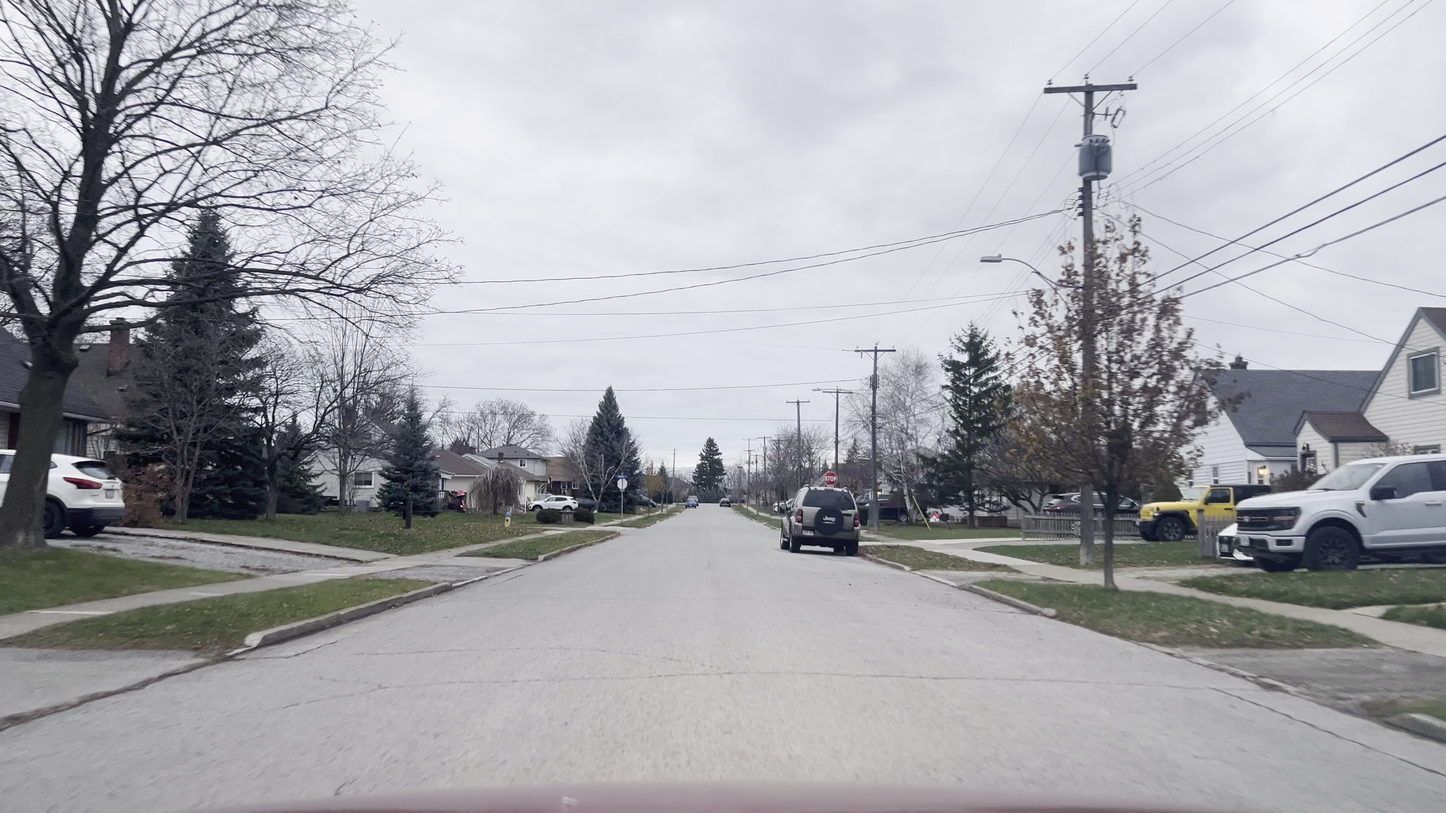cracks: (726, 663, 1117, 691), (1299, 704, 1384, 753), (1206, 681, 1292, 718)
